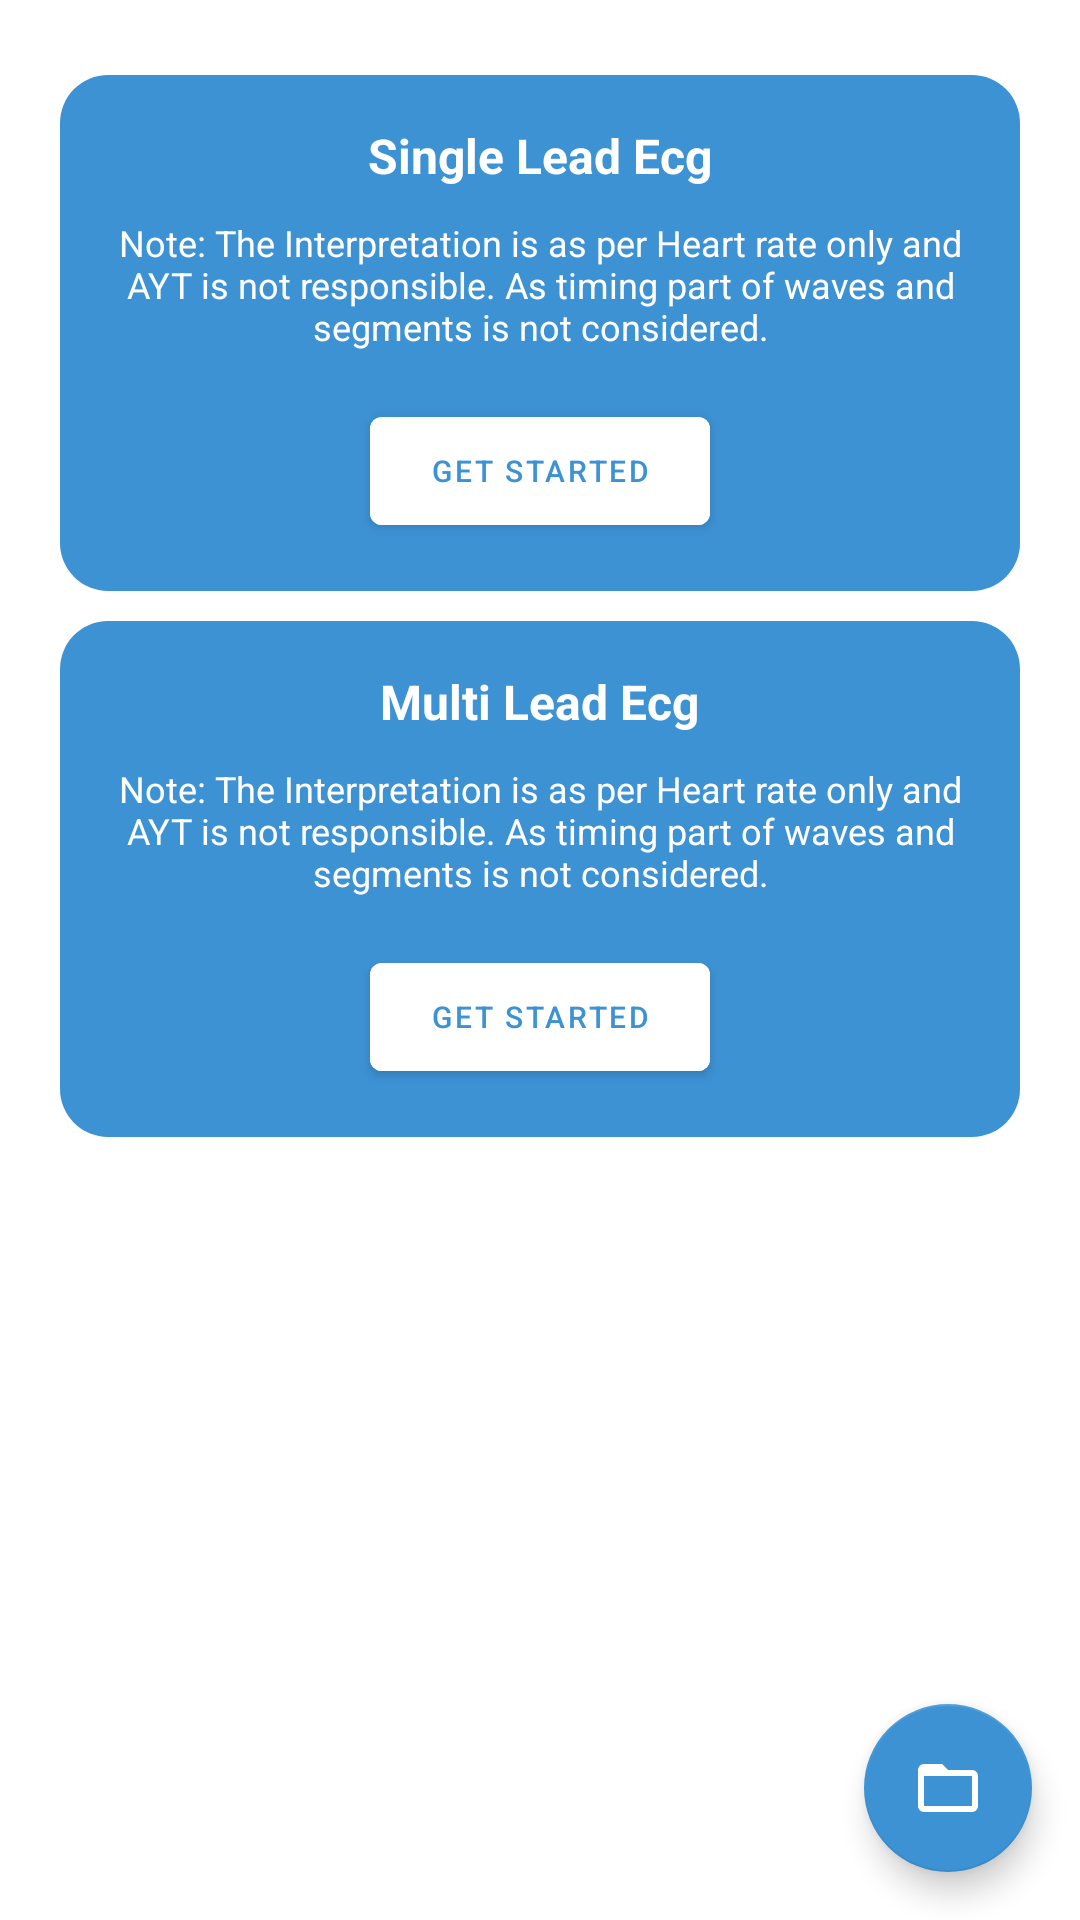

Where icons sit on this 1080 × 1920 app screen, as rect(x1, y1, x2, y2):
folder: rect(864, 1704, 1032, 1872)
